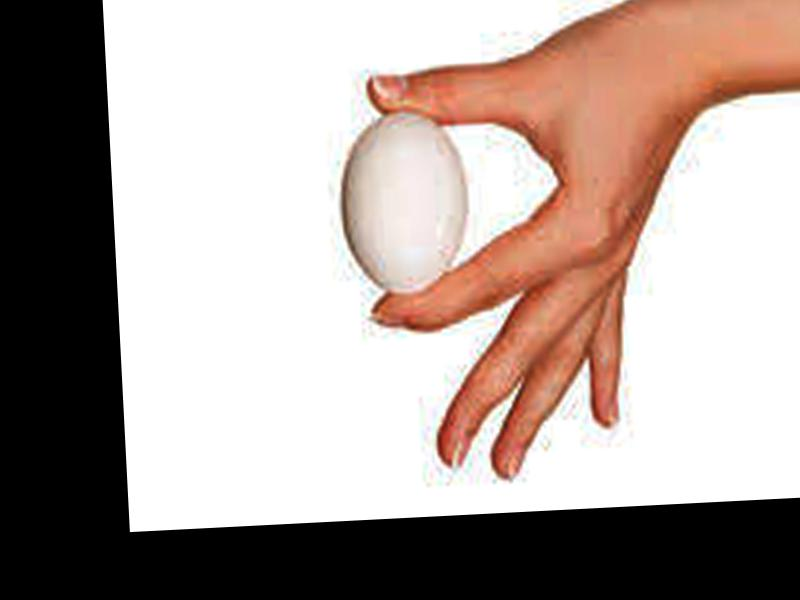Eggs: (334, 108, 472, 299)
